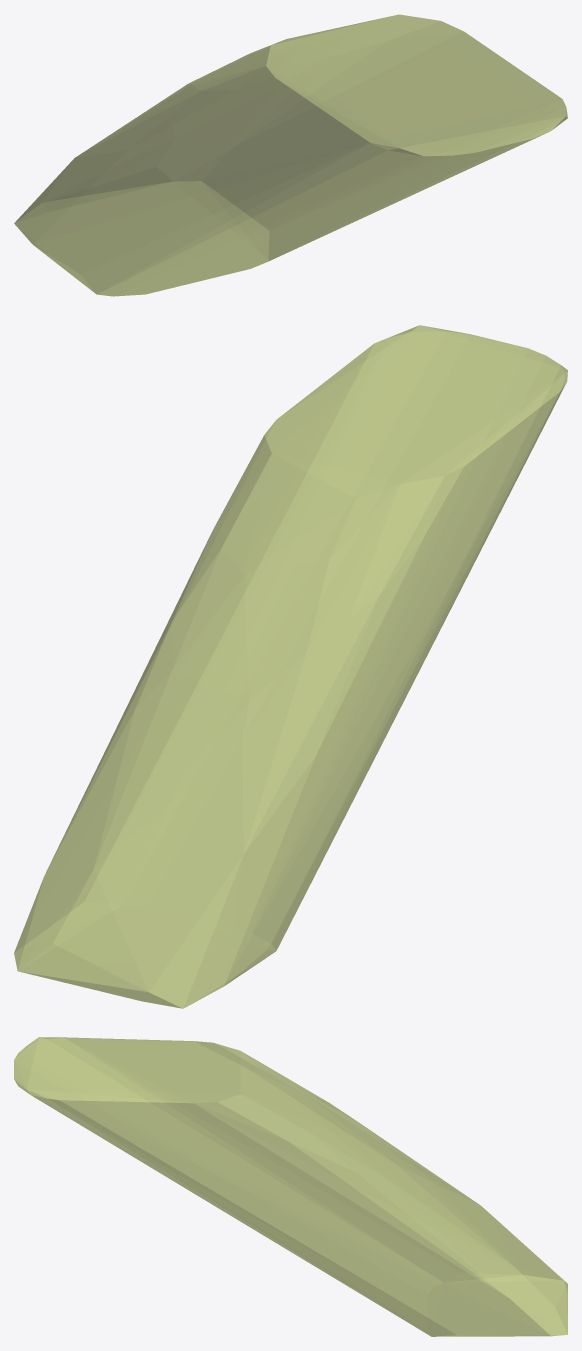
3 renders of one model, top to bottom at view 1: azimuth 30°, elevation 25°; view 2: azimuth 150°, elevation 25°; view 3: azimuth 270°, elevation 25°, orthographic. The views are drawn at different scales.
Visible parts, largest first — view 1: Shape_IndexedFaceSet.002_Shape_IndexedFaceSet.14610; view 2: Shape_IndexedFaceSet.002_Shape_IndexedFaceSet.14610; view 3: Shape_IndexedFaceSet.002_Shape_IndexedFaceSet.14610.
Part boxes in pixels (left/top/right/bottom): Shape_IndexedFaceSet.002_Shape_IndexedFaceSet.14610: left=14, top=14, right=567, bottom=296; Shape_IndexedFaceSet.002_Shape_IndexedFaceSet.14610: left=14, top=325, right=567, bottom=1008; Shape_IndexedFaceSet.002_Shape_IndexedFaceSet.14610: left=14, top=1037, right=567, bottom=1336.
Size of the model in its own units: 0.1328 by 0.2428 by 0.4929.
